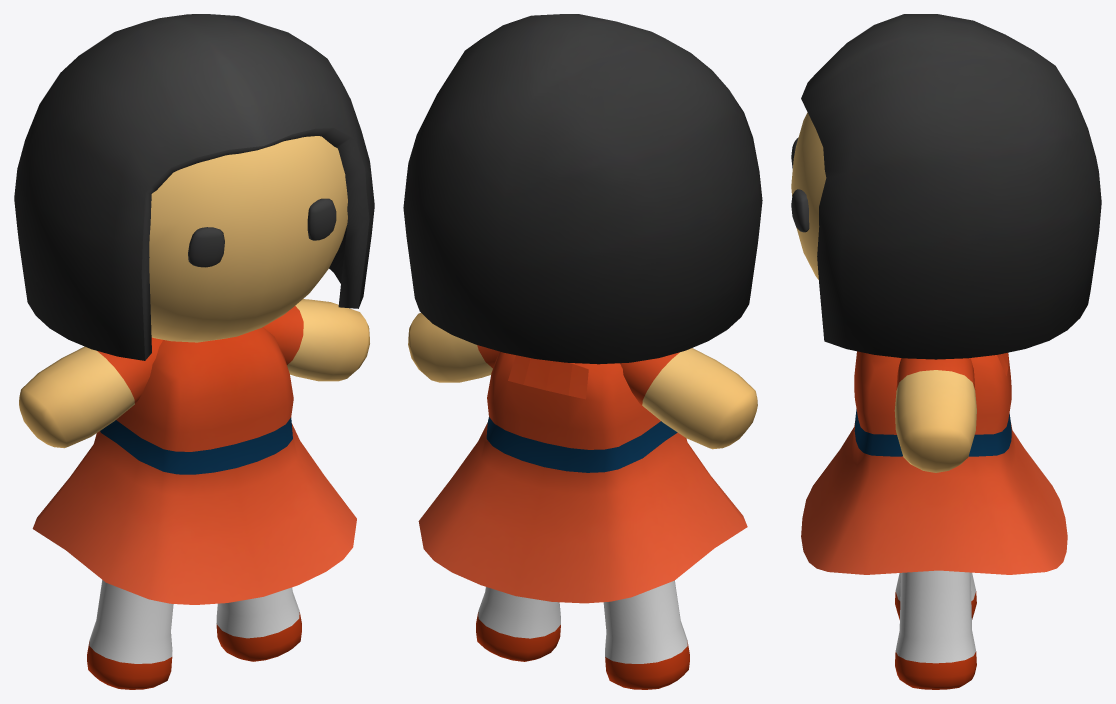
The model's file is _oll.fbx.
3 views of the same model, side by side, from view 1: azimuth 30°, elevation 25°; view 2: azimuth 150°, elevation 25°; view 3: azimuth 270°, elevation 25° (orthographic). The views are drawn at different scales.
Parts seen in each view (by area): view 1: doll1; view 2: doll1; view 3: doll1.
Boxes of the visible parts, bbox=[...] form: doll1: bbox=[14, 14, 374, 689]; doll1: bbox=[403, 14, 762, 689]; doll1: bbox=[791, 14, 1101, 689].
Size of the model in its own units: 18.1 by 32.34 by 14.74.
1 material, 1 textured.
